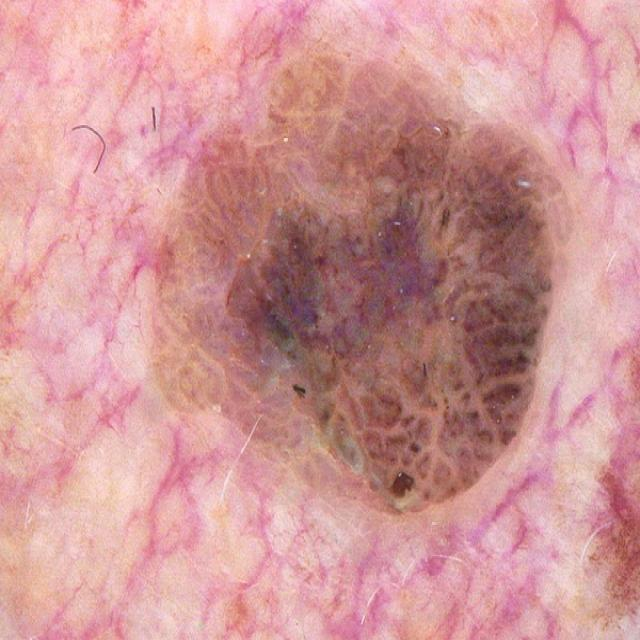Benign-Keratosis-like-Lesions-BKL-: (72, 53, 592, 572)
